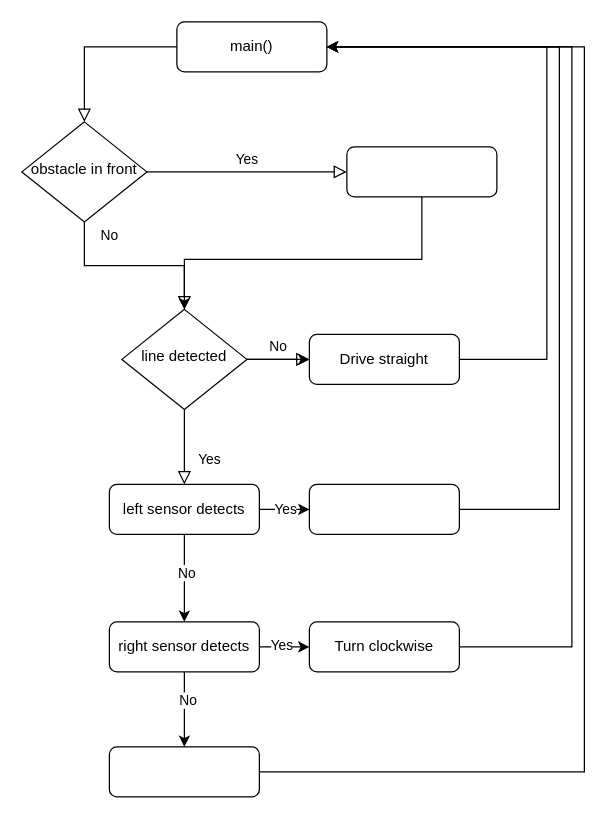
This 616x819 diagram has some shape labels left out. The shapes that lost their labels are listed below. From the top down, each one's centre as x and y in pixels, then its label:
At (421,171): "obstacleAvoidance()".
At (383,508): "Turn counterclockwise".
At (183,771): "sleep".
